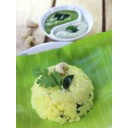venpongal: (34, 64, 95, 121)
